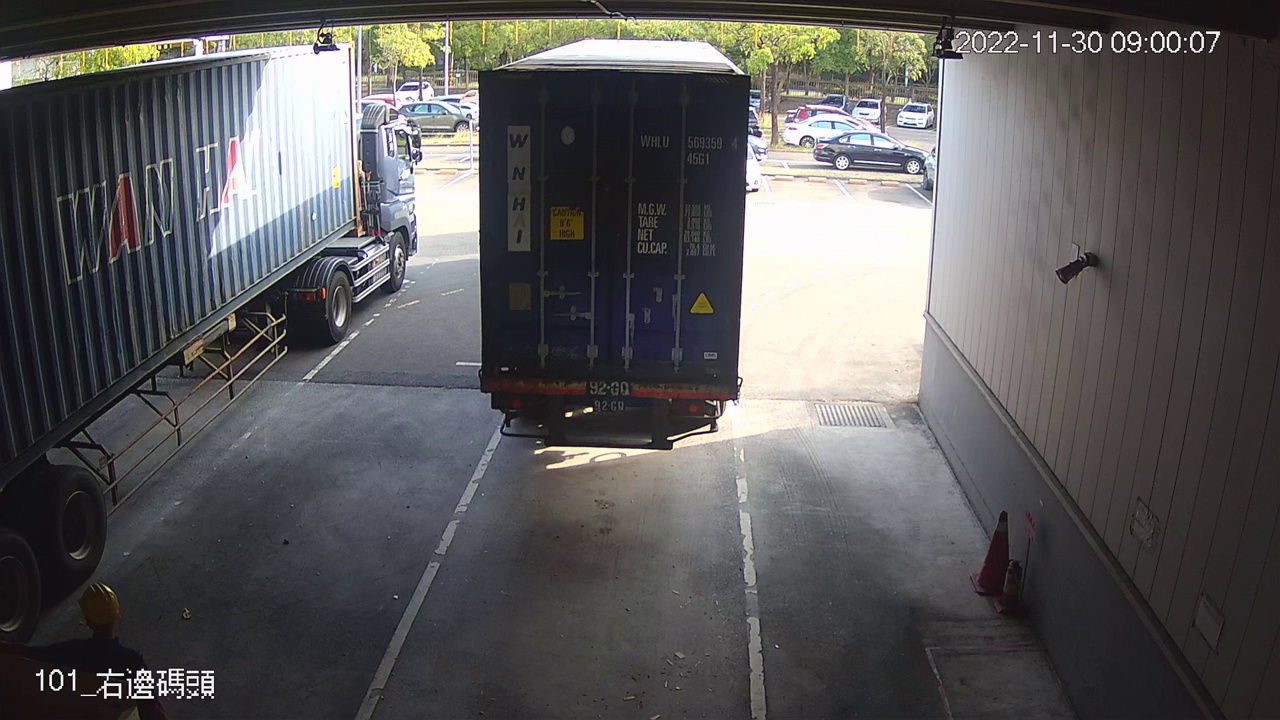container: (634, 128, 741, 169)
